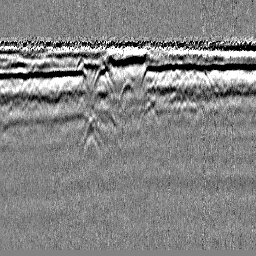cavity: (118, 78, 136, 101)
